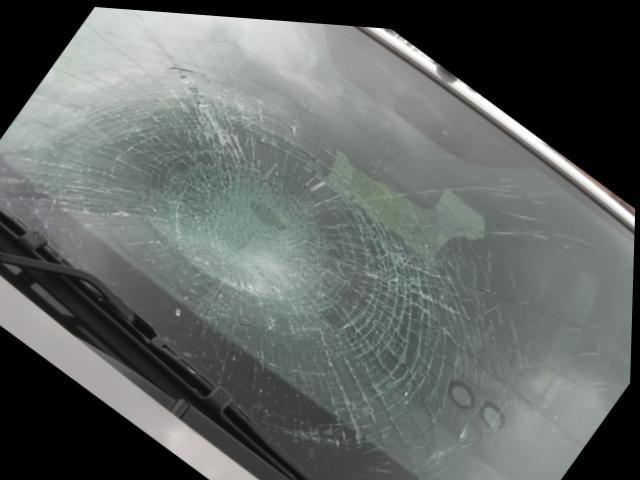glass shatter: (0, 5, 636, 480)
